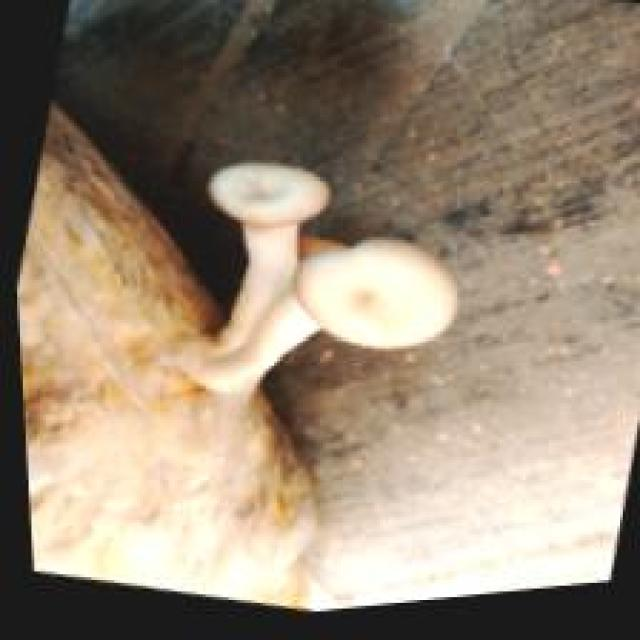death-cap: (294, 235, 457, 352)
